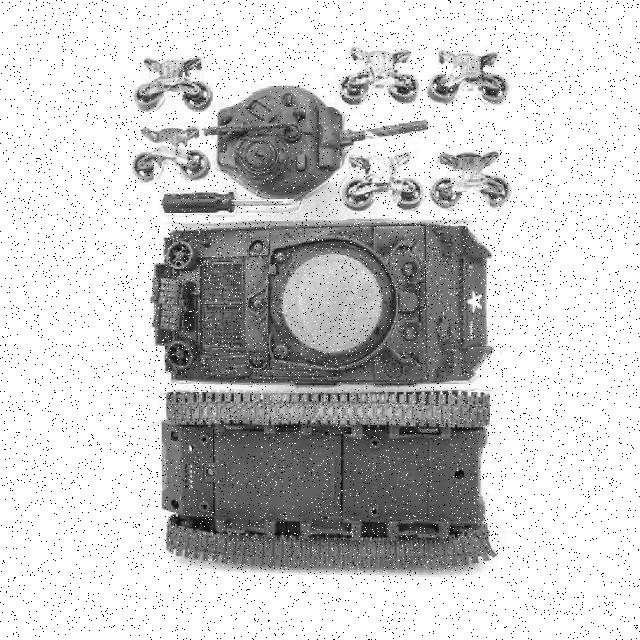MIL_MBT: (155, 397, 500, 571), (151, 220, 499, 373)
